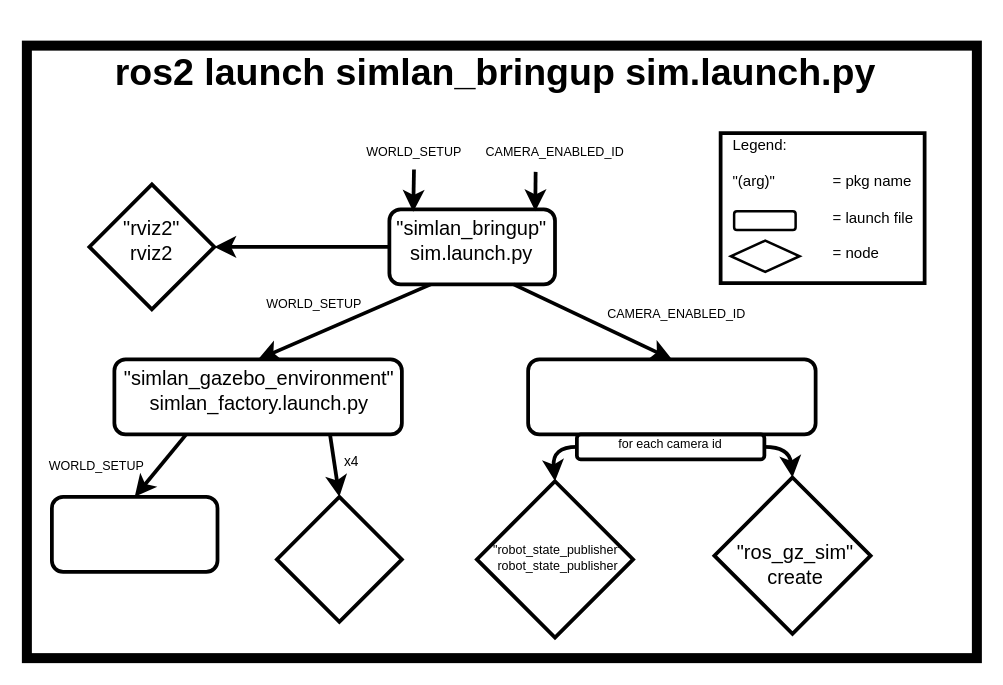
Some shapes in this 1003 by 685 pixel diagram are drawn without their labels. Here are the shapes that lost their labels. From the top down, the centre of each, then its label:
(x=671, y=396): "static_agent_launcher" static-agent.launch.py
(x=134, y=533): "ros_gz_sim" gz_sim.launch.py
(x=338, y=558): "ros_gz_bridge" ros_gz_bridge
